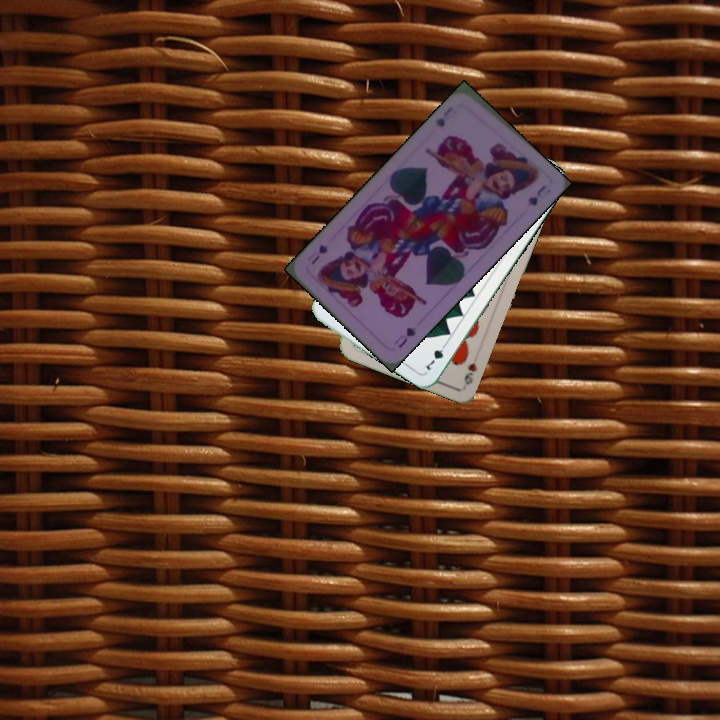G7: (422, 338, 450, 373)
GU: (390, 323, 419, 351), (431, 103, 455, 130)
H9: (460, 358, 480, 387)
